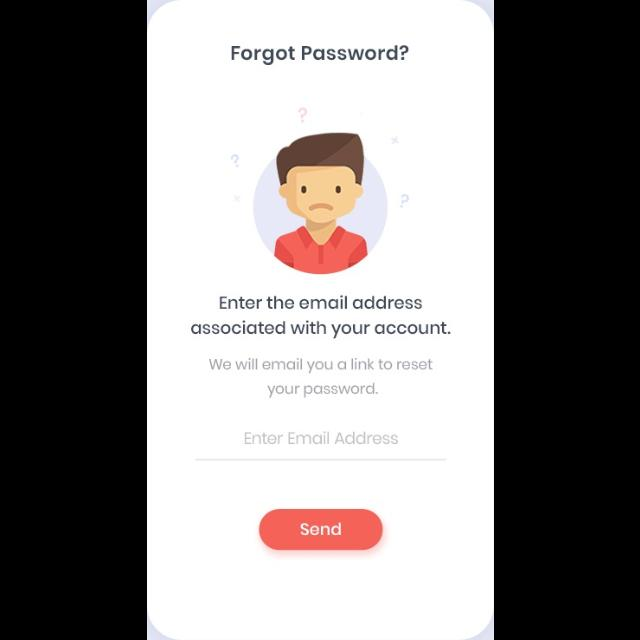image: (230, 108, 410, 276)
input: (195, 431, 447, 462)
text: (190, 296, 452, 340), (208, 358, 432, 398), (230, 46, 408, 66), (245, 432, 398, 444)
textbutton: (258, 508, 384, 550)
